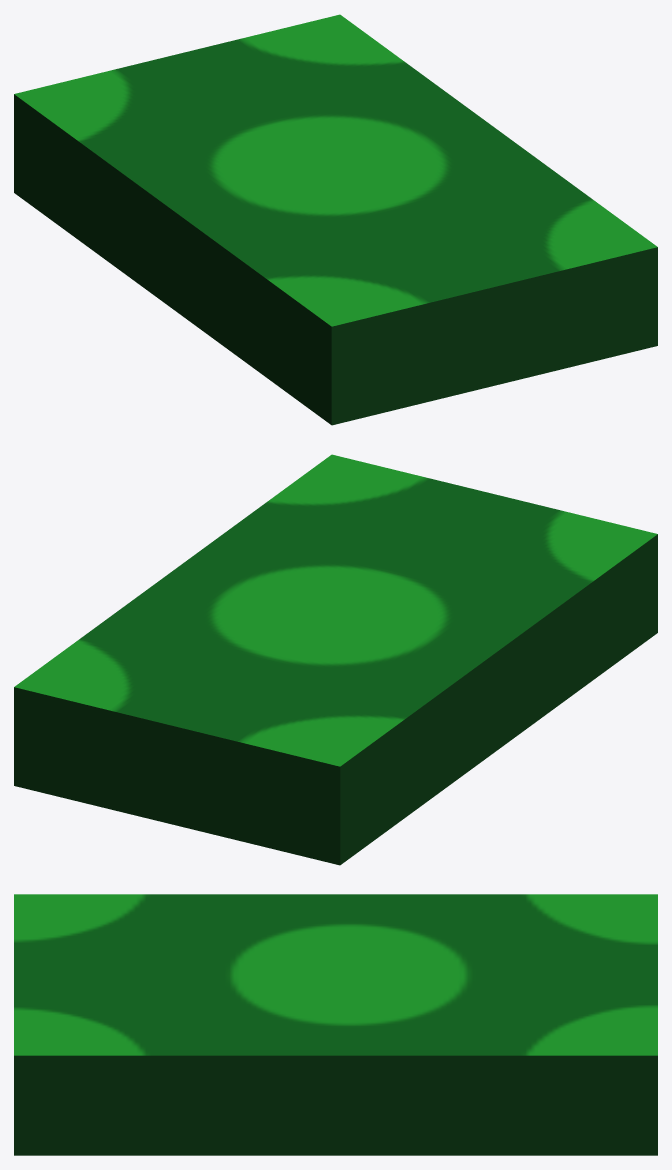
File: Tien.FBX
The picture shows the model from 3 angles, top to bottom: view 1: azimuth 30°, elevation 25°; view 2: azimuth 150°, elevation 25°; view 3: azimuth 270°, elevation 25°; orthographic projection.
Visible parts, largest first — view 1: Tien; view 2: Tien; view 3: Tien.
Boxes of the visible parts, x1=… form: Tien: x1=14, y1=14, x2=657, y2=425; Tien: x1=14, y1=454, x2=657, y2=865; Tien: x1=14, y1=894, x2=657, y2=1155.
Size of the model in its own units: 0.3456 by 0.1 by 0.5833.
